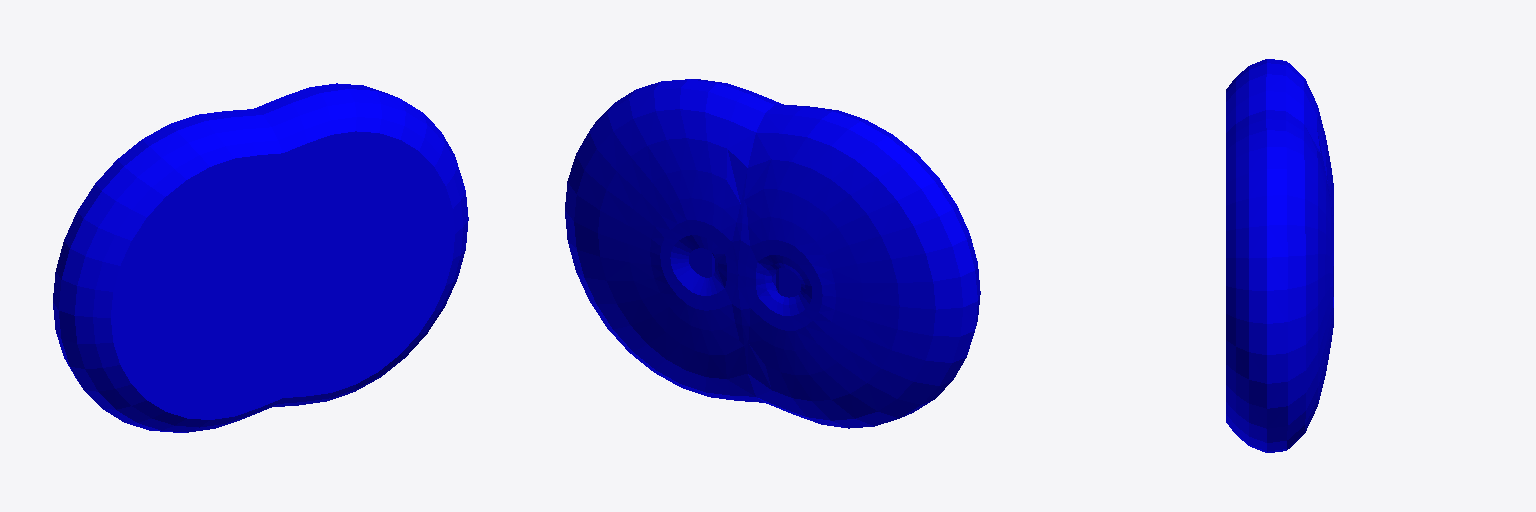
The model's file is Typ-2_Schild.obj.
The picture shows the model from 3 angles: view 1: azimuth 30°, elevation 25°; view 2: azimuth 150°, elevation 25°; view 3: azimuth 270°, elevation 25°; orthographic projection.
Visible parts, largest first — view 1: Schild; view 2: Schild; view 3: Schild.
Boxes of the visible parts, x1,y1,x2,y2 form: Schild: [53, 83, 468, 432]; Schild: [565, 79, 980, 428]; Schild: [1226, 59, 1333, 452].
Bounding box in the file's own units: 35.2 × 25.42 × 8.1.